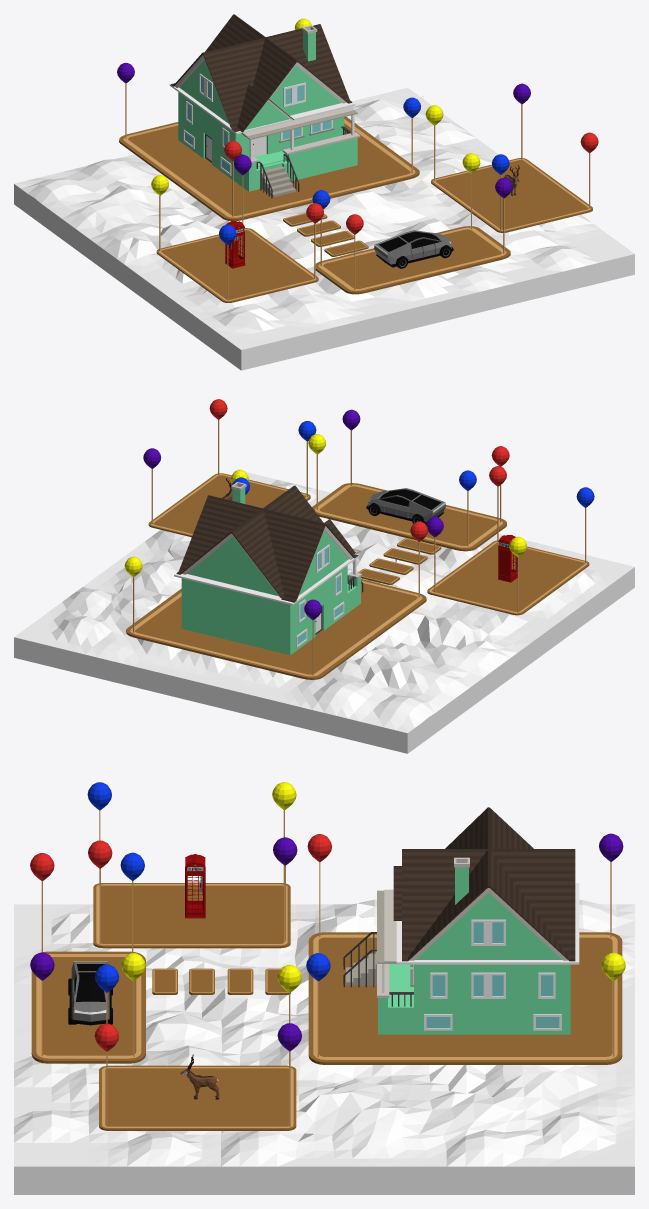
3 renders of one model, top to bottom at view 1: azimuth 30°, elevation 25°; view 2: azimuth 150°, elevation 25°; view 3: azimuth 270°, elevation 25°, orthographic. The views are drawn at different scales.
Parts seen in each view (by area): view 1: Cube.013, Cube.352, VEHICLES_CYBERTRUCK, OBJRANDOM_PHONEBOOTH; view 2: Cube.013, Cube.352, VEHICLES_CYBERTRUCK, OBJRANDOM_PHONEBOOTH; view 3: Cube.013, Cube.352, VEHICLES_CYBERTRUCK, OBJRANDOM_PHONEBOOTH.
Part boxes in pixels (left/top/right/bottom): Cube.013: left=14, top=18, right=634, bottom=370; Cube.352: left=169, top=14, right=360, bottom=198; VEHICLES_CYBERTRUCK: left=374, top=230, right=453, bottom=268; OBJRANDOM_PHONEBOOTH: left=225, top=221, right=245, bottom=268; Cube.013: left=14, top=399, right=634, bottom=753; Cube.352: left=174, top=482, right=363, bottom=655; VEHICLES_CYBERTRUCK: left=366, top=488, right=445, bottom=524; OBJRANDOM_PHONEBOOTH: left=498, top=535, right=517, bottom=582; Cube.013: left=14, top=782, right=634, bottom=1194; Cube.352: left=343, top=807, right=579, bottom=1034; VEHICLES_CYBERTRUCK: left=68, top=961, right=112, bottom=1025; OBJRANDOM_PHONEBOOTH: left=185, top=854, right=205, bottom=918.
Size of the model in its own units: 4000 by 1638 by 4000.
Materials: 39 (2 with a texture image).
